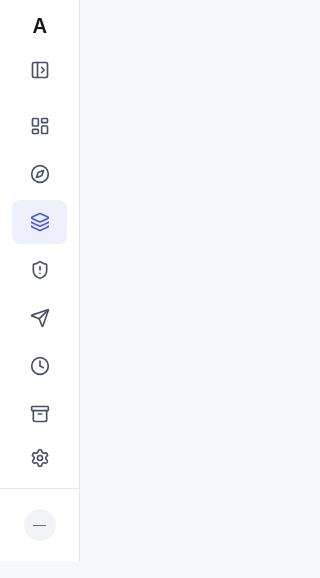
tooltips for icon-only navigation › shows a tooltip on hover when collapsed
Hover over the 5th link named "Requests".
mouse_move(40, 318)  # box [12, 296, 67, 340]
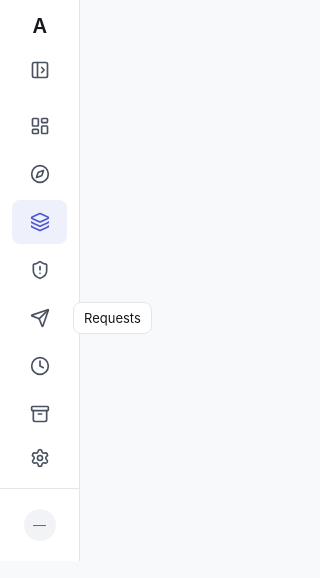
Expected: the tooltip "Requests" is shown, [73, 302, 152, 334]
